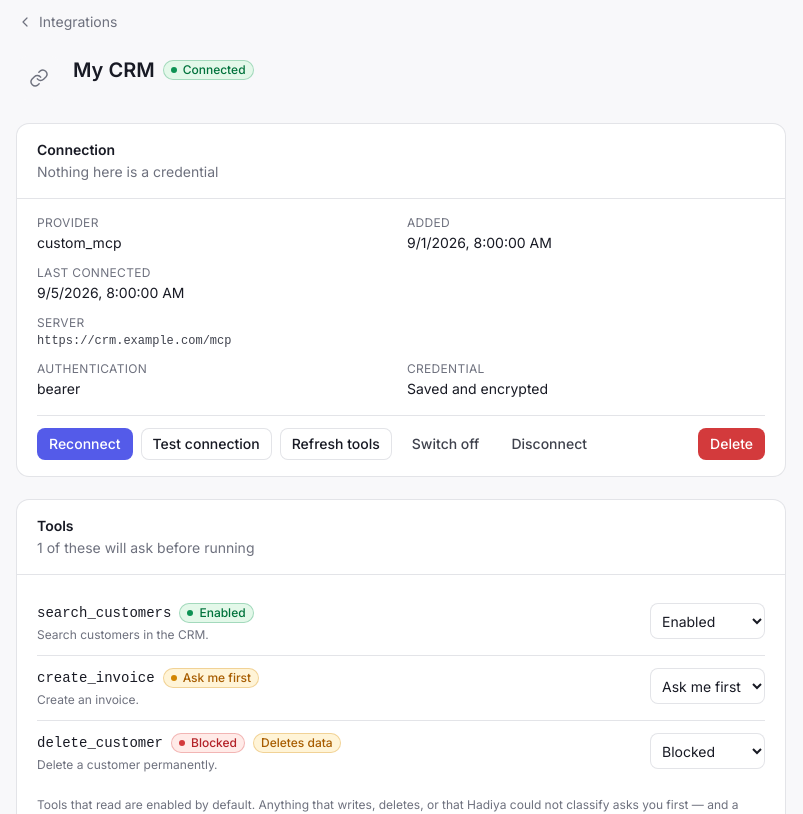
Scenario: the integration detail page › disconnects and reports that the credential is gone
Click the button "Disconnect" at (549, 444), box [499, 428, 599, 460]
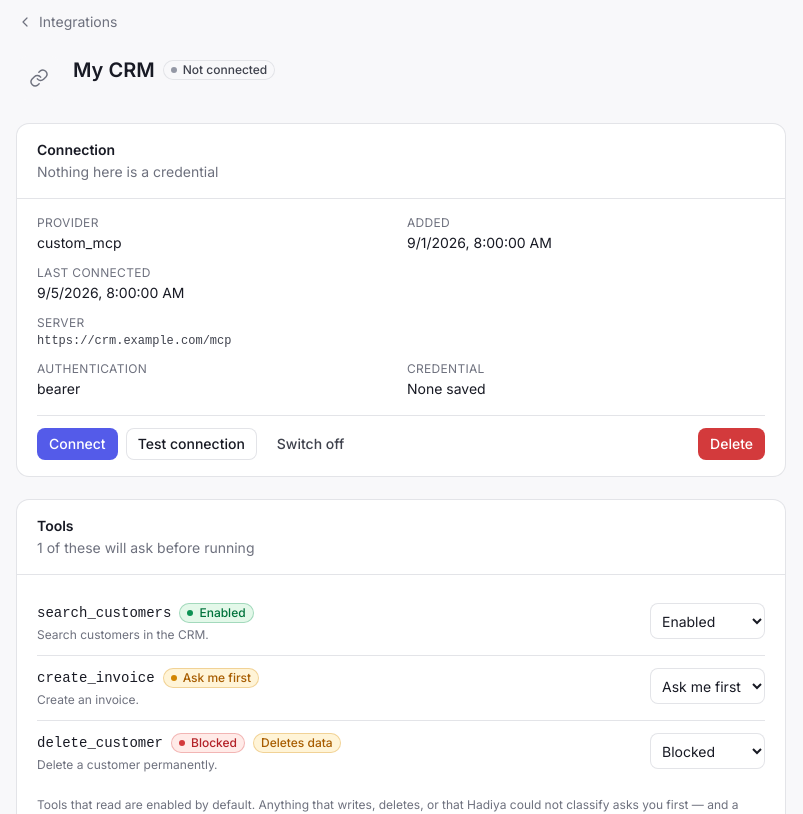
Now the text "None saved" is shown, box [407, 380, 486, 397]
